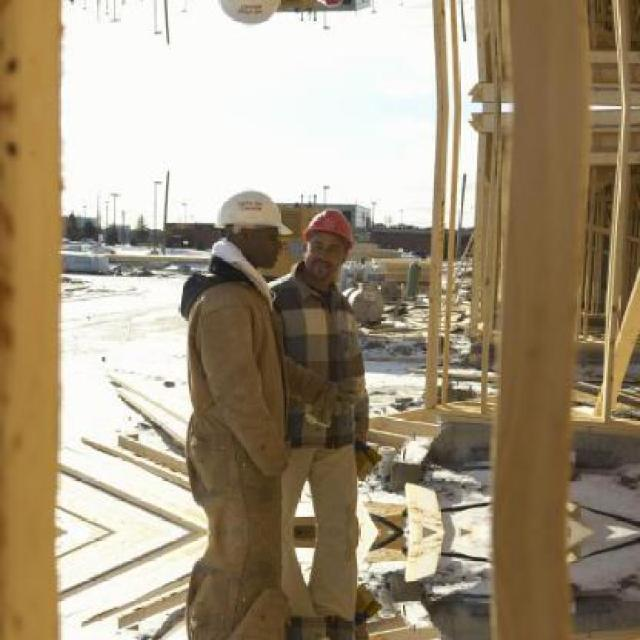helmet: (211, 181, 287, 256), (294, 204, 361, 282), (210, 0, 287, 32)
